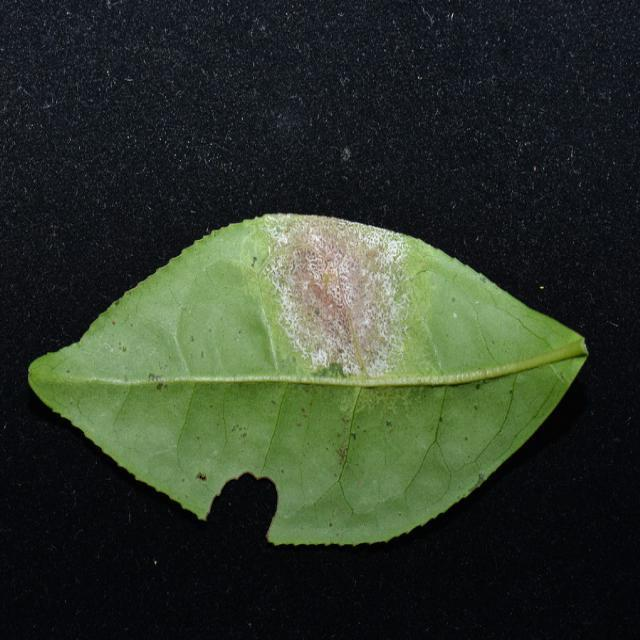Tea exobasidium blight: (272, 195, 405, 377)
